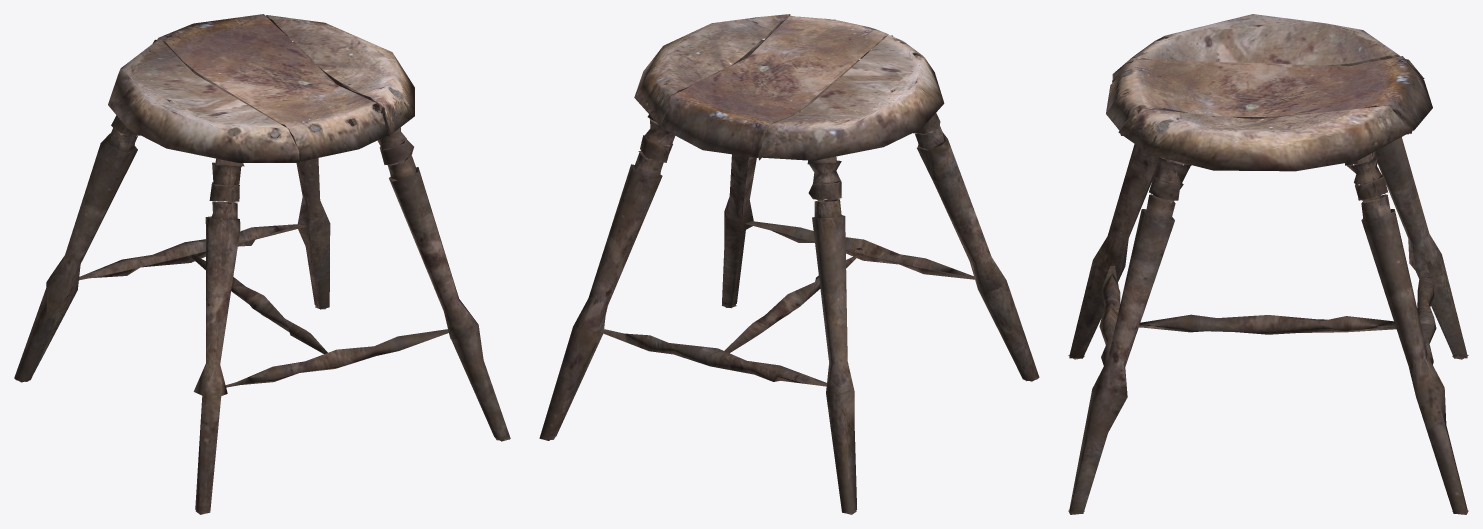
The model's file is wooden_stool_01_1k.gltf.lod.glb.
3 renders of one model, left to right at view 1: azimuth 30°, elevation 25°; view 2: azimuth 150°, elevation 25°; view 3: azimuth 270°, elevation 25°, orthographic. The views are drawn at different scales.
Visible parts, largest first — view 1: wooden_stool_01; view 2: wooden_stool_01; view 3: wooden_stool_01.
Boxes of the visible parts, x1,y1,x2,y2 form: wooden_stool_01: [14, 14, 510, 514]; wooden_stool_01: [539, 14, 1039, 514]; wooden_stool_01: [1068, 14, 1468, 514].
Size of the model in its own units: 0.4245 by 0.4385 by 0.4421.
Materials: 1 (1 with a texture image).
